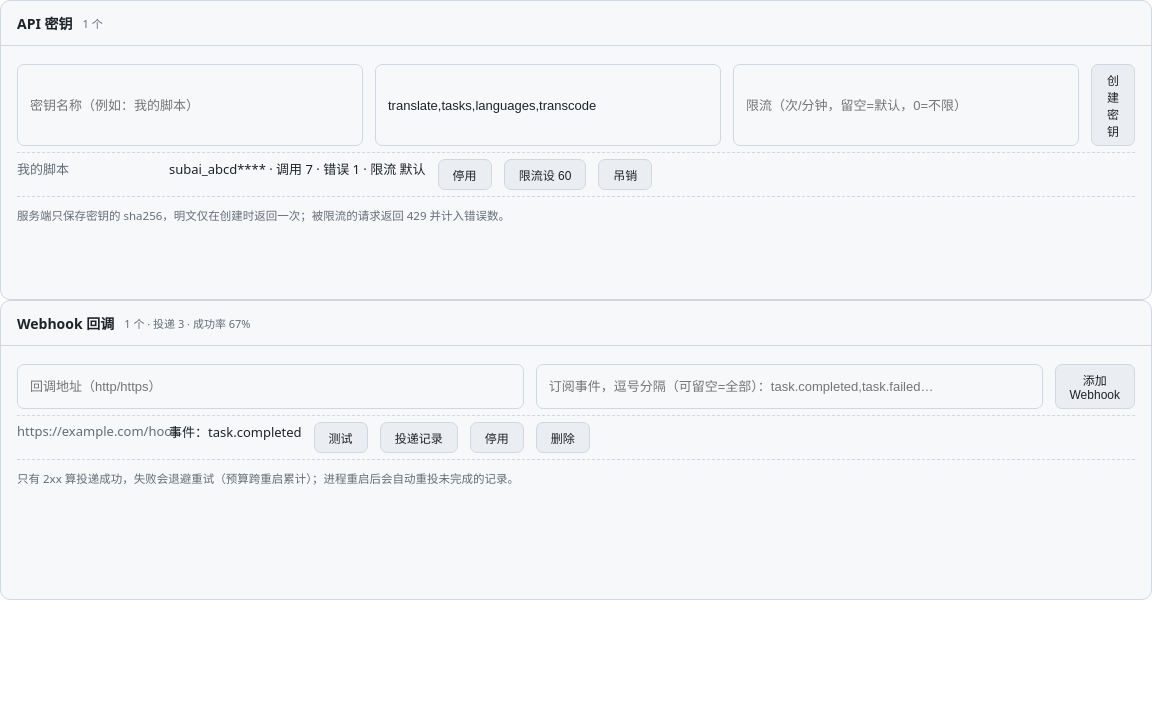
Test case: OpenPlatformPage › 添加 Webhook 后展示签名密钥
The width and height of the screenshot is (1152, 720).
Expected: the text "https://example.com/hook" is shown, [17,422,179,440]
Type "https://new.example.com/cb" into the field with placeholder "回调地址（http/https）" at [270, 386], box [17,364,524,409]
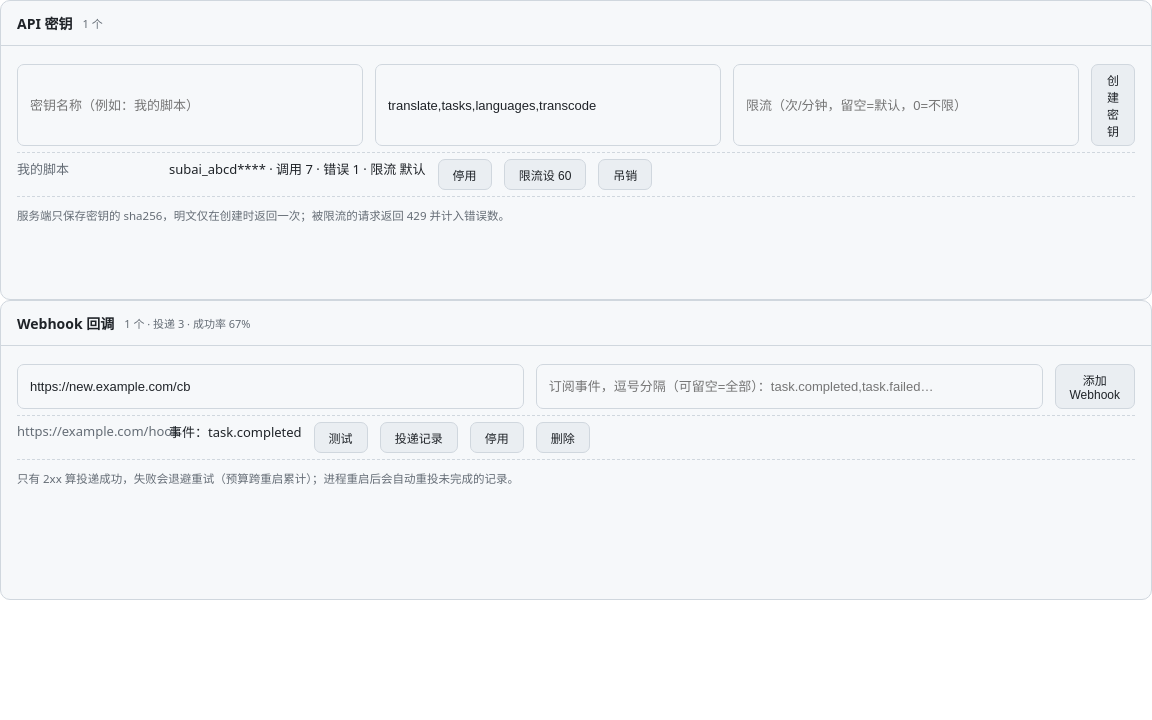
Click the button "添加 Webhook" at [1095, 386], box [1054,364,1135,409]
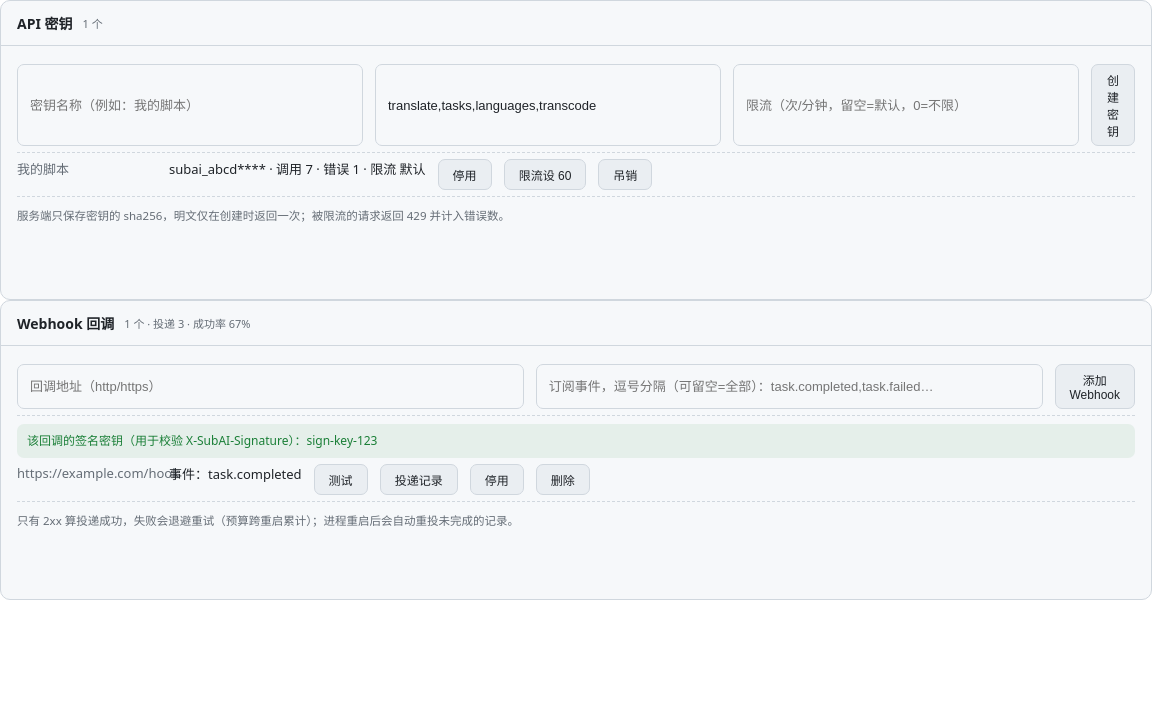
Result: the text "该回调的签名密钥（用于校验 X-SubAI-Signature）：sign-key-123" is shown at [17,424,1135,458]
